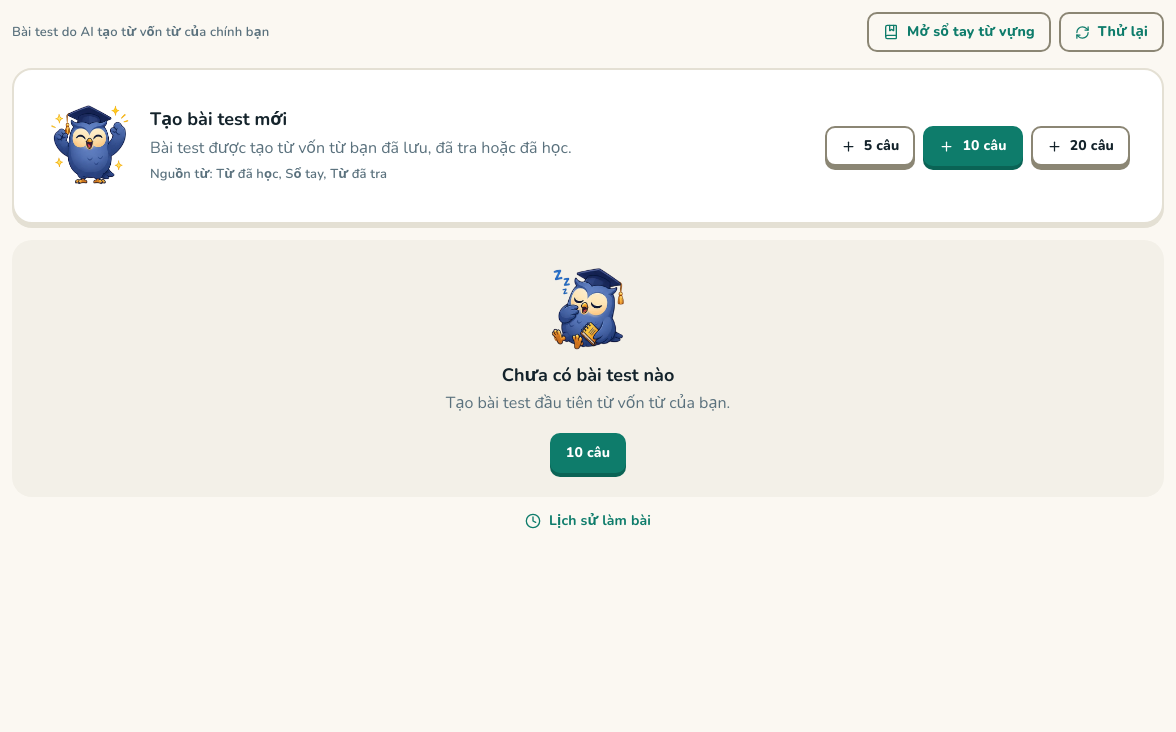
Test: VocabularyListPage — empty and error › treats any other generate failure as a generic problem
This screenshot has width=1176, height=732.
Click the button "10 câu" in the row of "Tạo bài test mới". click: {"x": 973, "y": 146}
box: [923,126,1023,166]
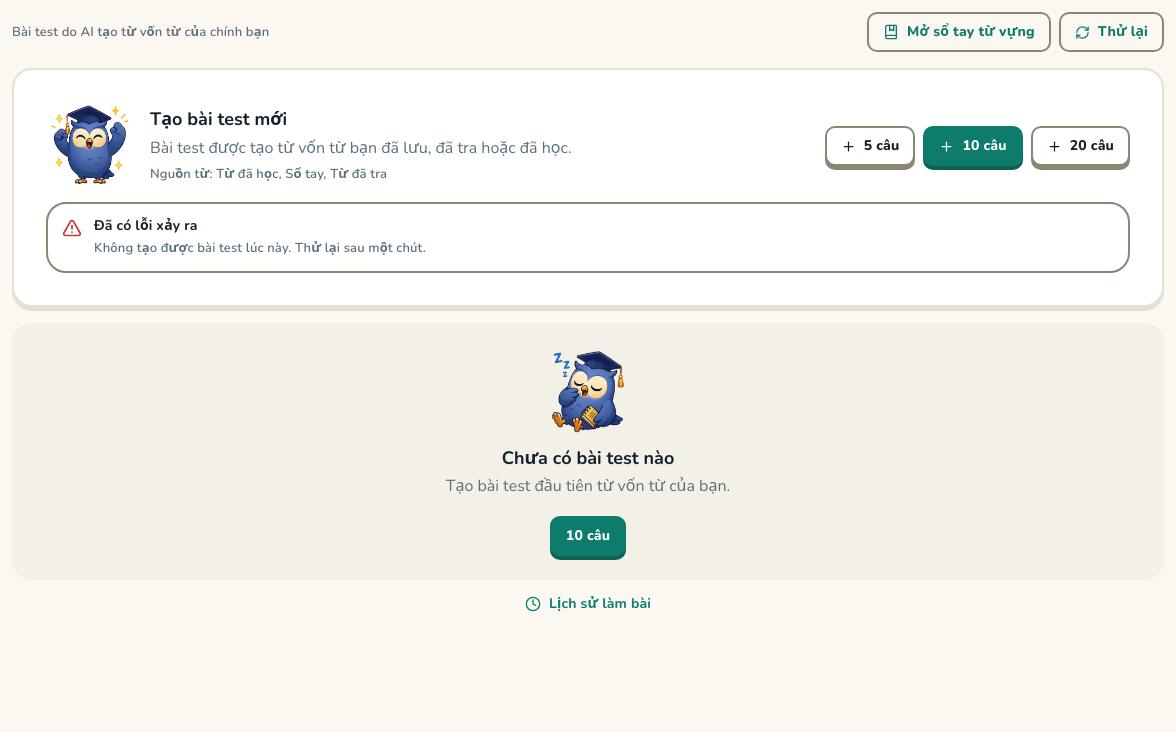
Expected: the text "Đã có lỗi xảy ra" is shown, [94,216,198,235]
